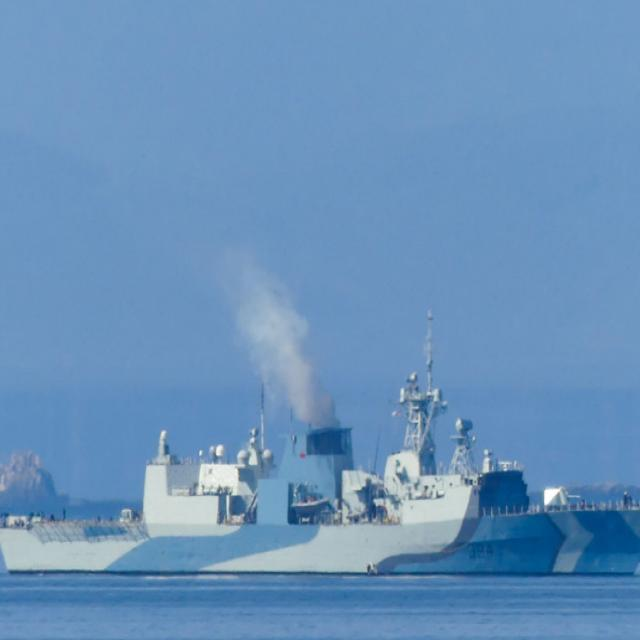Fragata: (1, 318, 640, 589)
